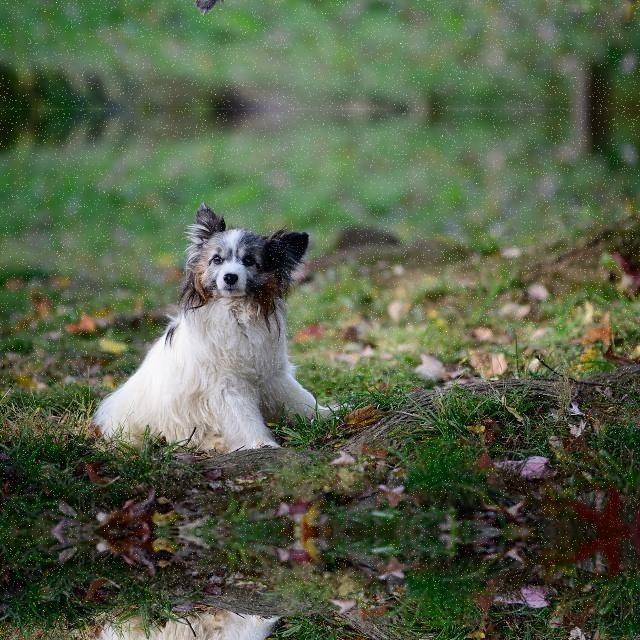dog: (85, 203, 338, 462), (84, 601, 337, 640), (84, 0, 337, 13)
